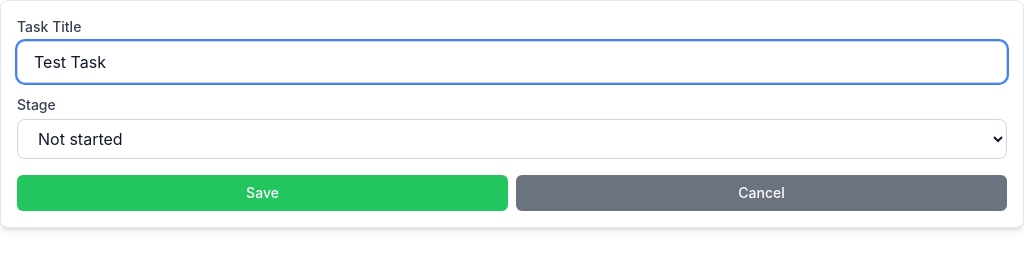
EditTask Component › shows error when submitting empty title
Clear the field showing "Test Task" at (512, 62), box [17, 41, 1007, 83]
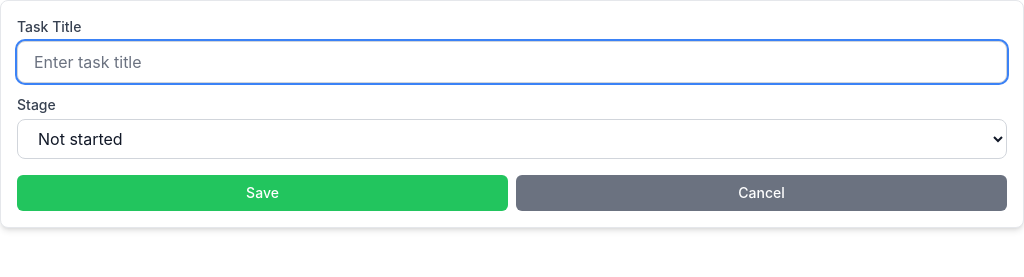
Click the button "Save".
click(262, 193)  # box [17, 175, 508, 211]
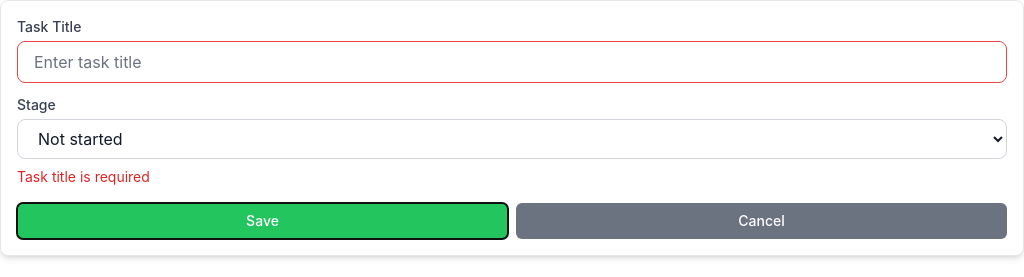
Now the text "Task title is required" is shown, box [17, 168, 150, 185]
